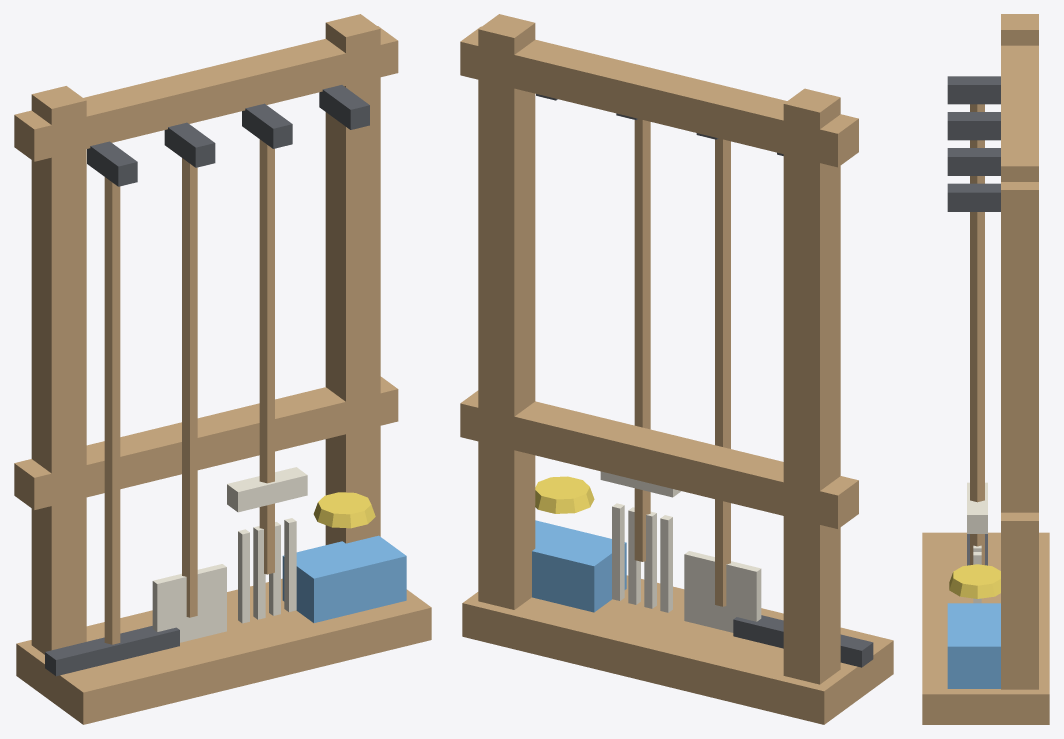
The model's file is lawn-mowing-simulator-kit-tool-rack-with-tools-ca180920__27384.glb.
3 views of the same model, side by side, from view 1: azimuth 30°, elevation 25°; view 2: azimuth 150°, elevation 25°; view 3: azimuth 270°, elevation 25° (orthographic). The views are drawn at different scales.
Parts seen in each view (by area): view 1: tool-rack-with-tools; view 2: tool-rack-with-tools; view 3: tool-rack-with-tools.
Part boxes in pixels (x1=…): tool-rack-with-tools: x1=14, y1=14, x2=431, y2=724; tool-rack-with-tools: x1=460, y1=14, x2=893, y2=724; tool-rack-with-tools: x1=922, y1=14, x2=1049, y2=724.
Bounding box in the file's own units: 0.94 × 1.45 × 0.2999.
